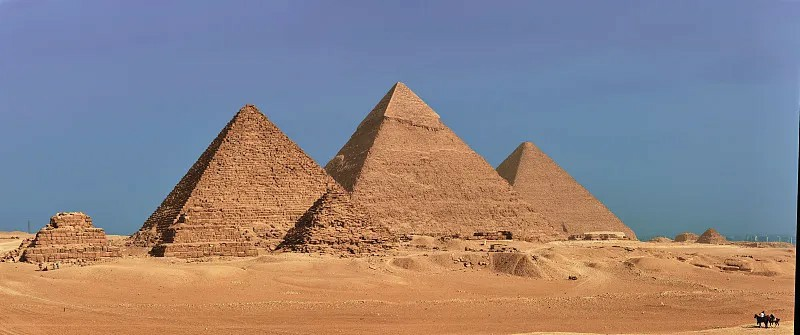Pyramid: (325, 83, 569, 242), (132, 105, 398, 245), (498, 141, 637, 240), (276, 187, 402, 256), (151, 201, 261, 258), (13, 213, 126, 266)
